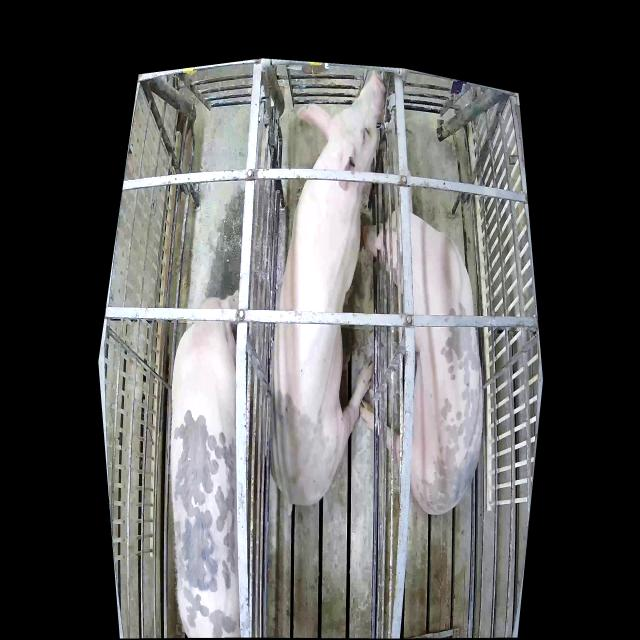pig: (269, 72, 386, 505), (361, 168, 482, 513), (171, 289, 240, 637)
